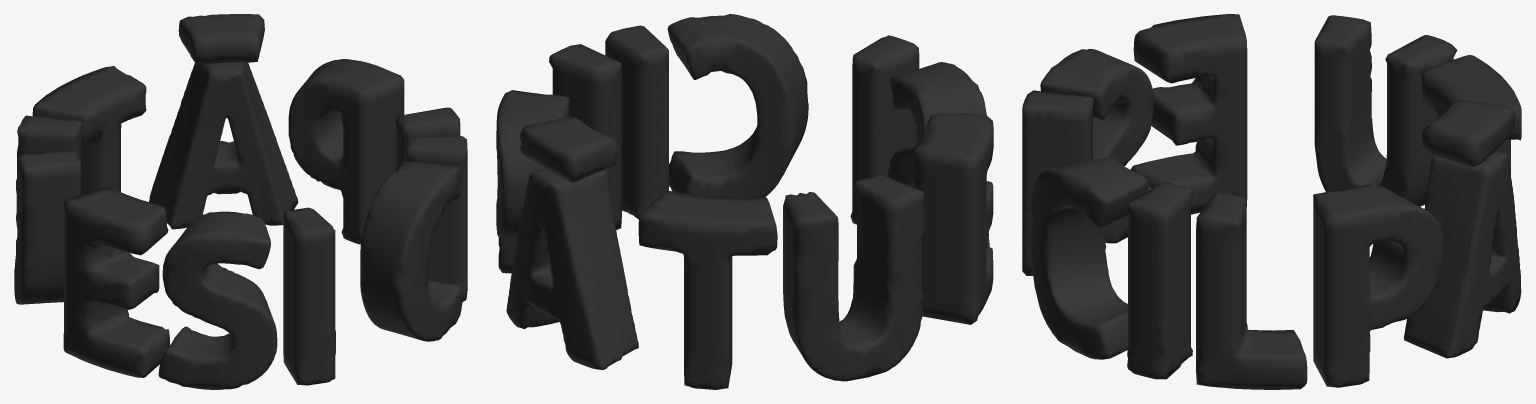
The model's file is BurtuCilpa_02.glb.
3 views of the same model, side by side, from view 1: azimuth 30°, elevation 25°; view 2: azimuth 150°, elevation 25°; view 3: azimuth 270°, elevation 25° (orthographic). The views are drawn at different scales.
Visible parts, largest first — view 1: Text_01_opt; view 2: Text_01_opt; view 3: Text_01_opt.
Boxes of the visible parts, x1,y1,x2,y2 form: Text_01_opt: (14,14,467,389); Text_01_opt: (496,14,993,389); Text_01_opt: (1022,14,1521,389).
Bounding box in the file's own units: 6.88 × 3.18 × 6.88.
Materials: 1 (1 with a texture image).
